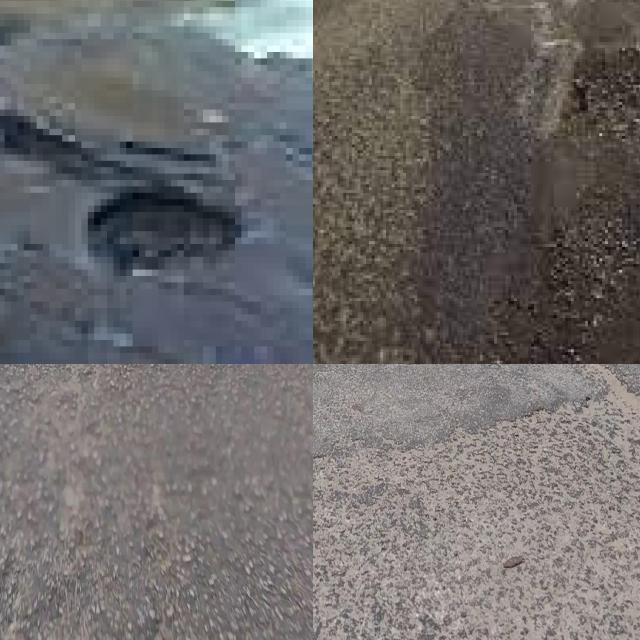Pothole: (88, 199, 241, 276), (562, 47, 640, 172)
